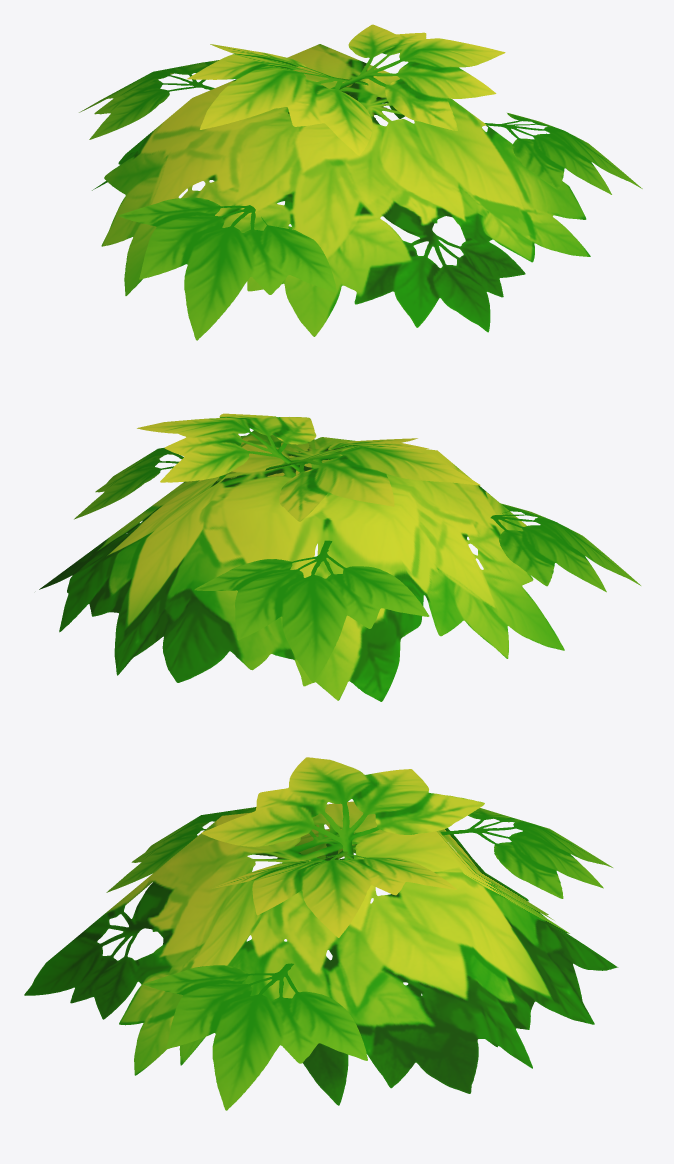
The model's file is Grass01.fbx.
3 views of the same model, one above another, from view 1: azimuth 30°, elevation 25°; view 2: azimuth 150°, elevation 25°; view 3: azimuth 270°, elevation 25° (orthographic). The views are drawn at different scales.
Visible parts, largest first — view 1: ground_grass01; view 2: ground_grass01; view 3: ground_grass01.
Part boxes in pixels (x1,y1,x2,y2): ground_grass01: (79, 24, 642, 340); ground_grass01: (39, 413, 640, 701); ground_grass01: (24, 757, 618, 1110).
Bounding box in the file's own units: 557 × 162 × 495.
